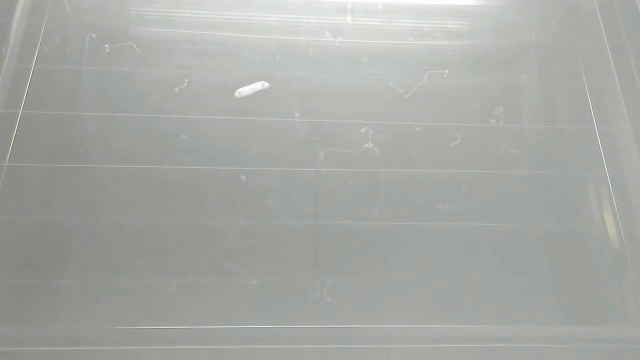alpha: (231, 78, 273, 100)
